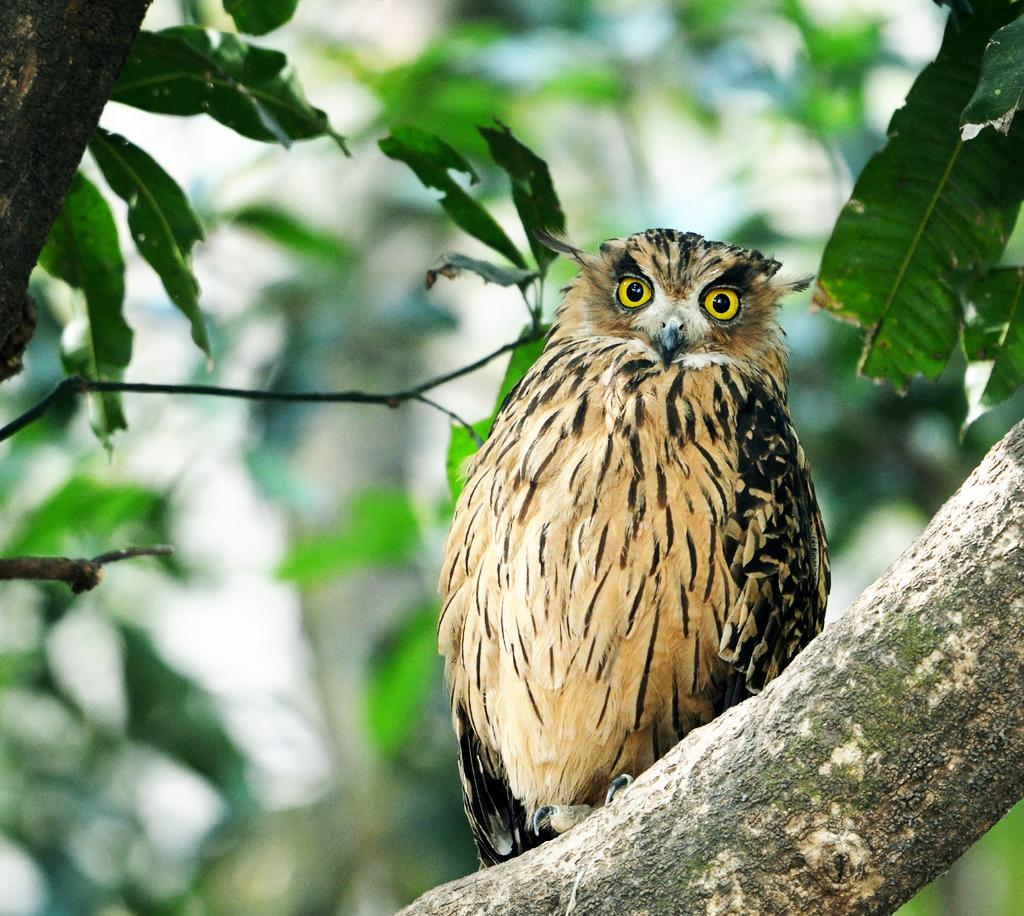Owl: (430, 219, 834, 870)
